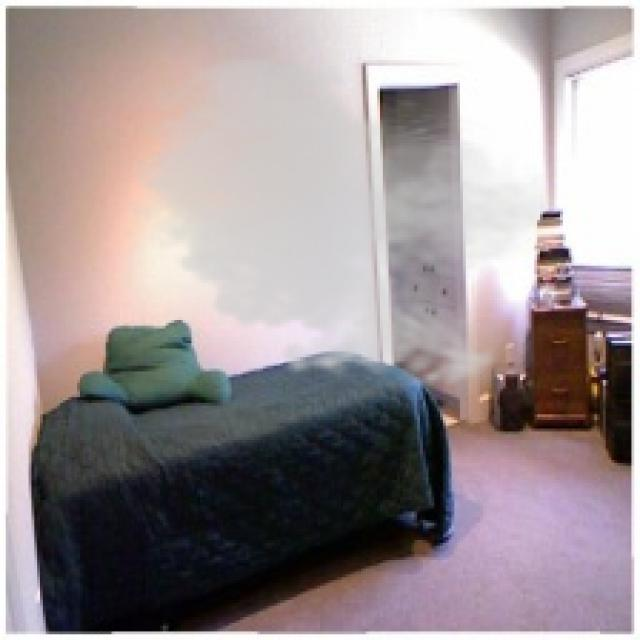smoke: (120, 49, 546, 397)
